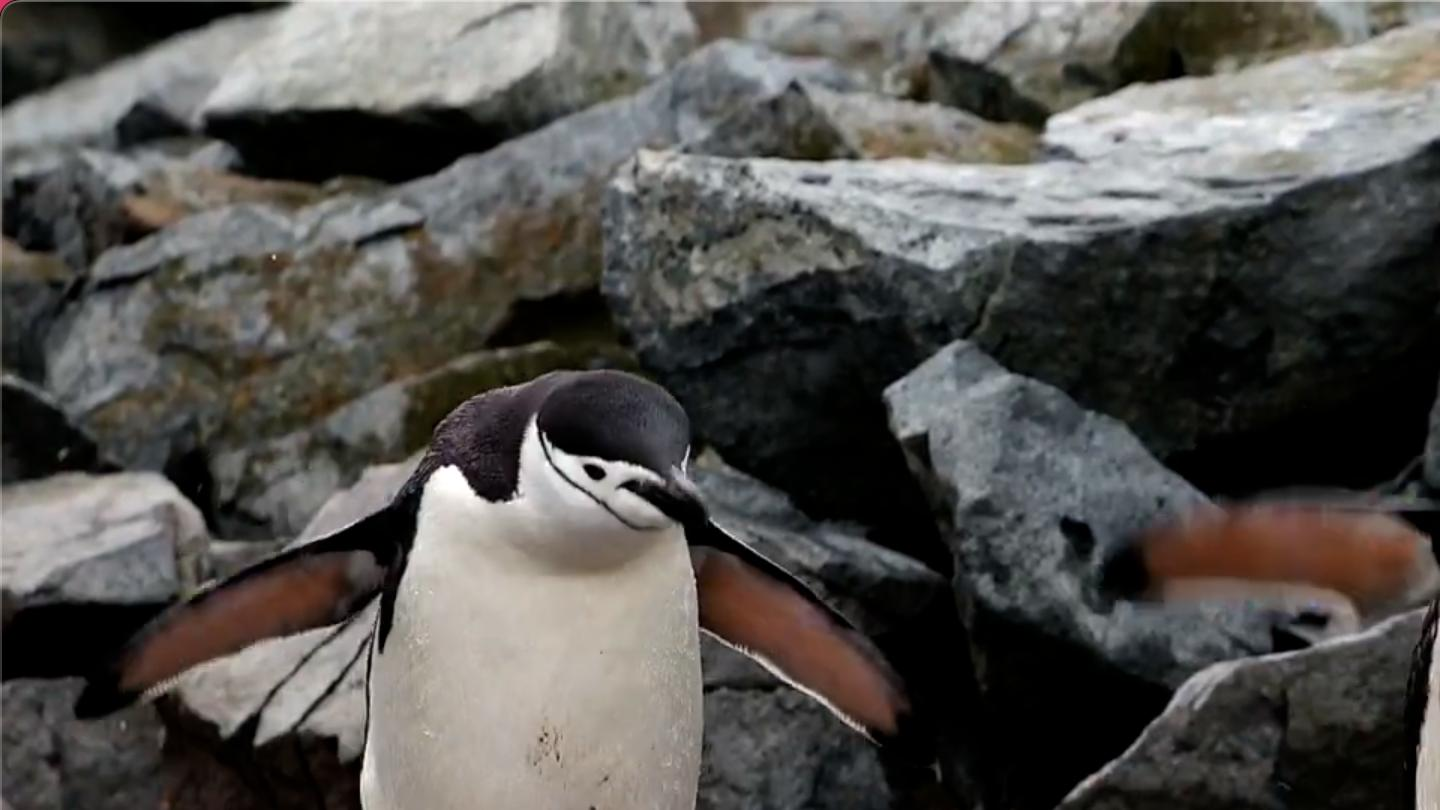Chinstrap Penguin: (88, 344, 911, 810), (1081, 369, 1440, 810)
